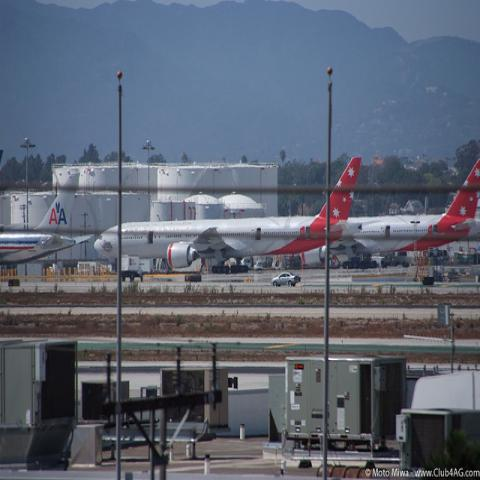car: (271, 273, 297, 287), (344, 259, 364, 268), (436, 249, 450, 261), (253, 260, 264, 272)
truck: (122, 254, 145, 282), (393, 251, 413, 267)
